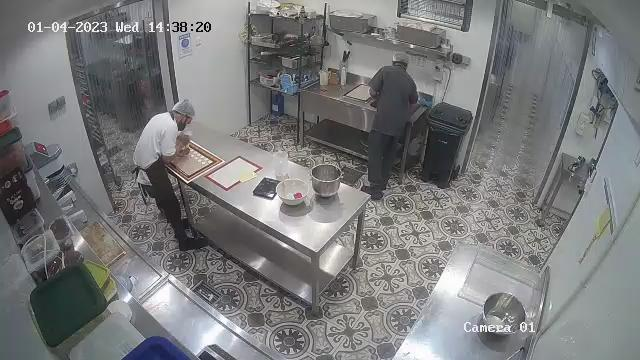apron: (133, 157, 167, 180)
